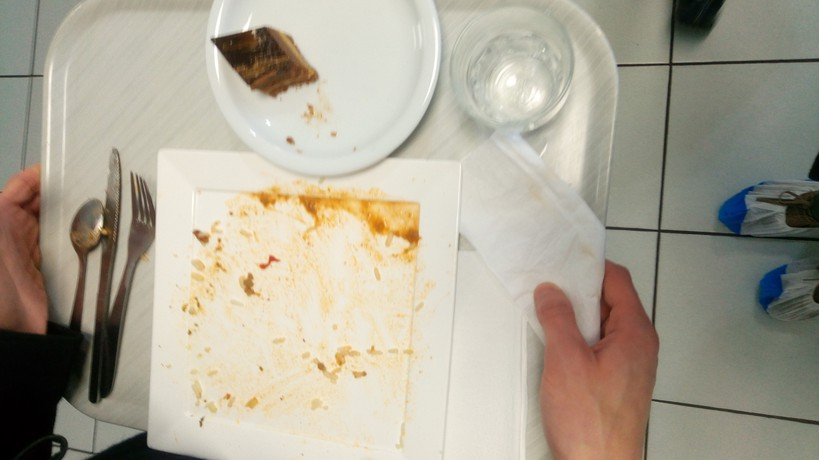cup: (447, 4, 570, 146)
cutlery: (44, 148, 159, 401)
orga: (208, 27, 321, 105)
trash: (441, 124, 608, 348)
